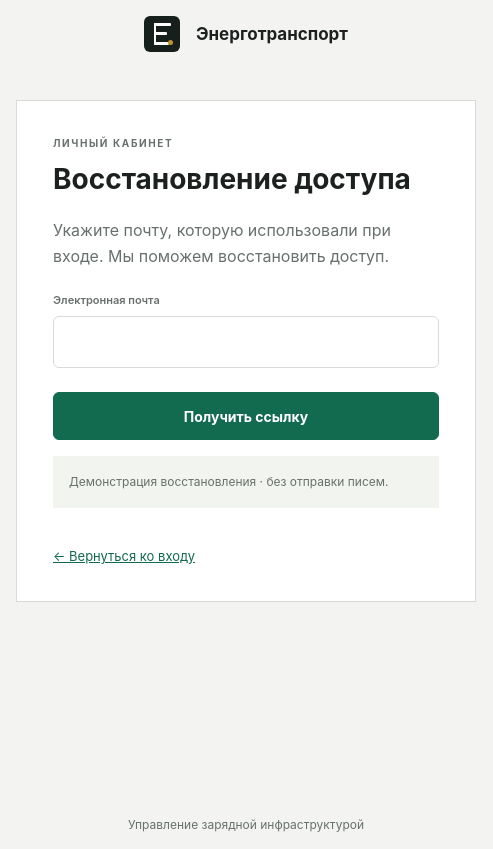
Scenario: публичная форма восстановления показывает тестовую ссылку и ошибку недействительного кода
The width and height of the screenshot is (493, 849).
Type "driver@energotransport.test" into the field labelled "Электронная почта" at [246, 342], box [53,316,439,368]
Click the button "Получить ссылку" at [246, 416], box [53,392,439,440]
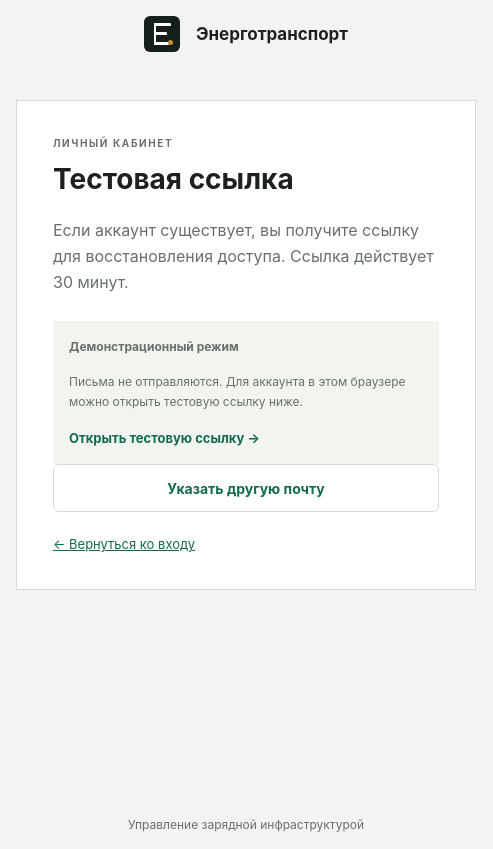
expect the link "Открыть тестовую ссылку →" is shown: met
Click the link "Открыть тестовую ссылку →" at [164, 438], box [69,430,260,446]
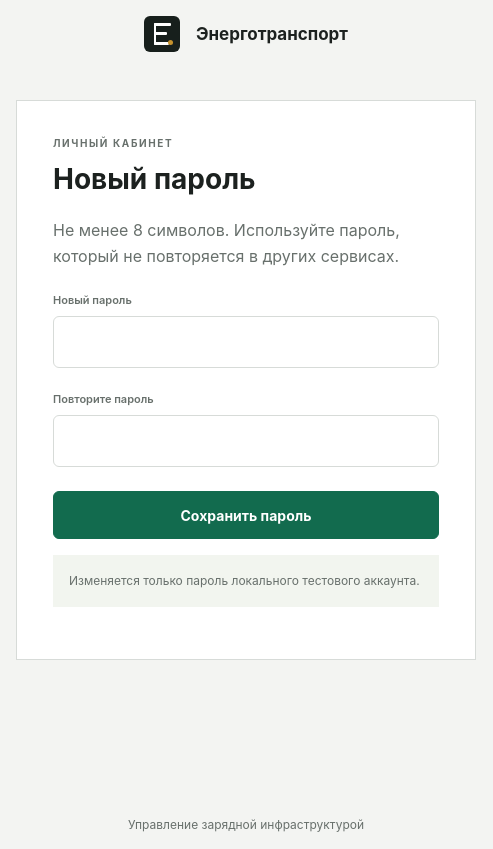
Type "New123456" into the password field labelled "Новый пароль" at [246, 342], box [53,316,439,368]
Type "Different123" into the password field labelled "Повторите пароль" at [246, 441], box [53,415,439,467]
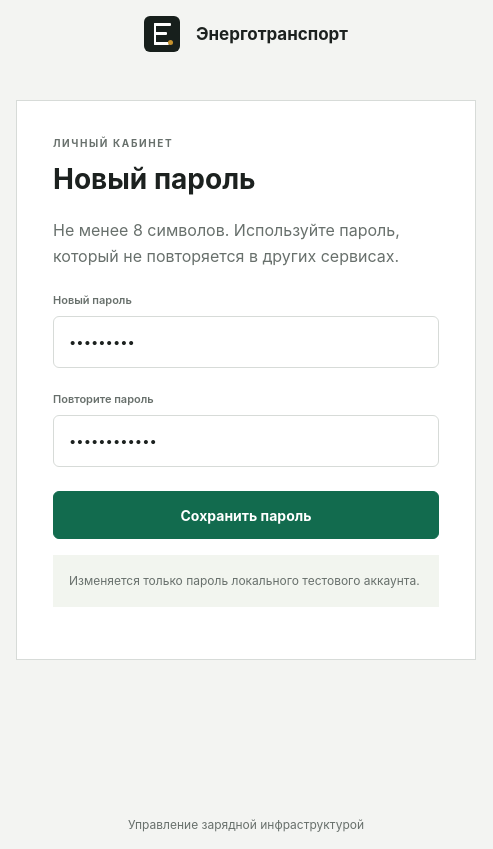
Click the button "Сохранить пароль" at [246, 515], box [53,491,439,539]
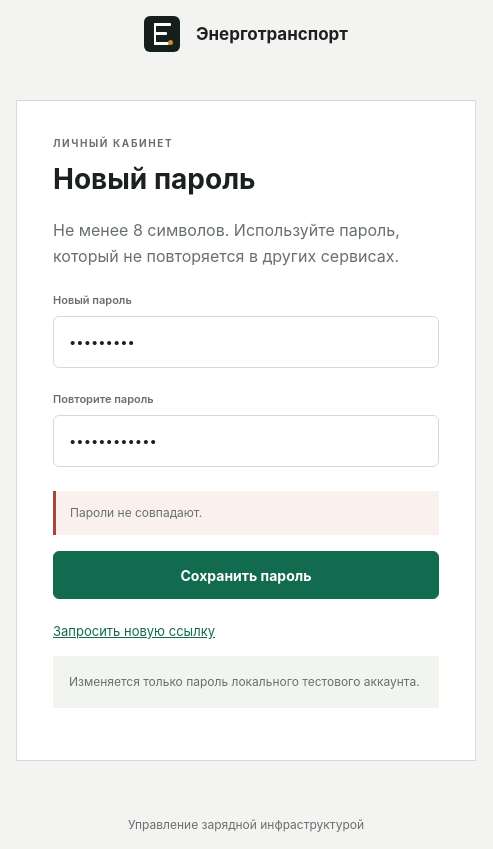
expect the text "Пароли не совпадают." is shown: met, box [53,491,439,535]
Type "New123456" into the password field labelled "Повторите пароль" at [246, 441], box [53,415,439,467]
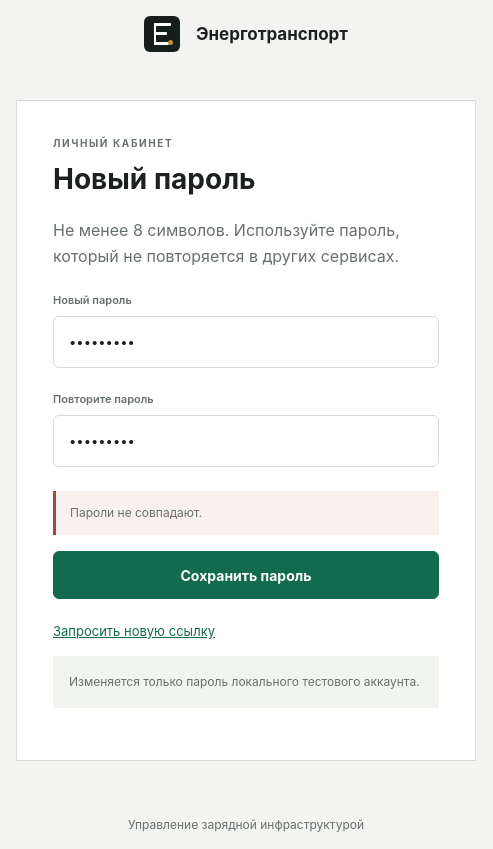
Click the button "Сохранить пароль" at [246, 575], box [53,551,439,599]
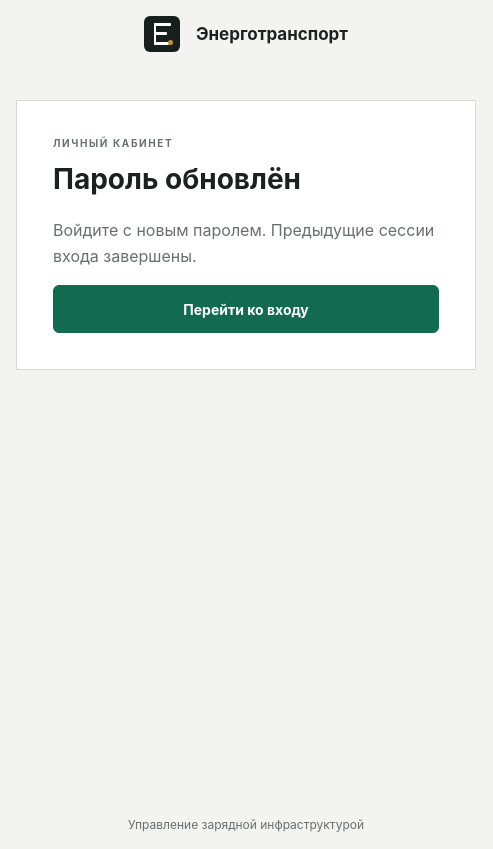
expect the heading "Пароль обновлён" is shown: met, box [53,162,301,196]
